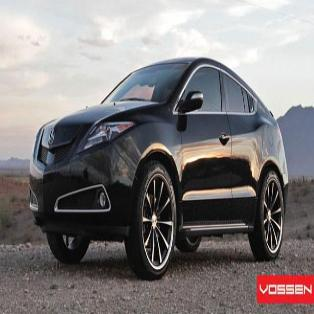Auto: (28, 55, 289, 280)
